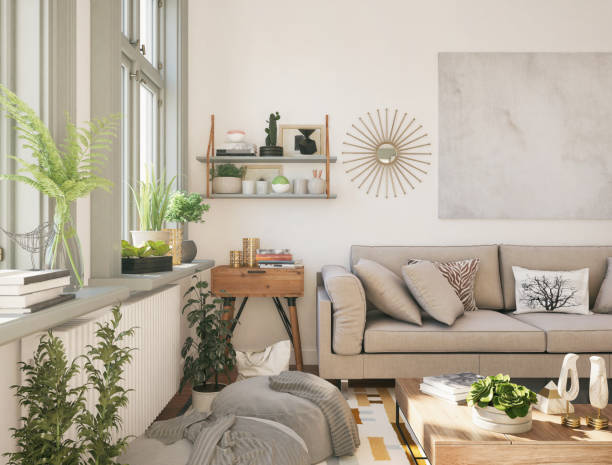large plant: (12, 306, 131, 465), (181, 272, 240, 413)
small plant: (1, 82, 120, 296), (466, 372, 539, 435), (127, 170, 173, 245), (171, 189, 209, 265), (119, 238, 176, 275), (208, 163, 245, 193)
sofa: (314, 240, 612, 394)
table: (392, 374, 612, 465)
wall art: (435, 48, 612, 224)
